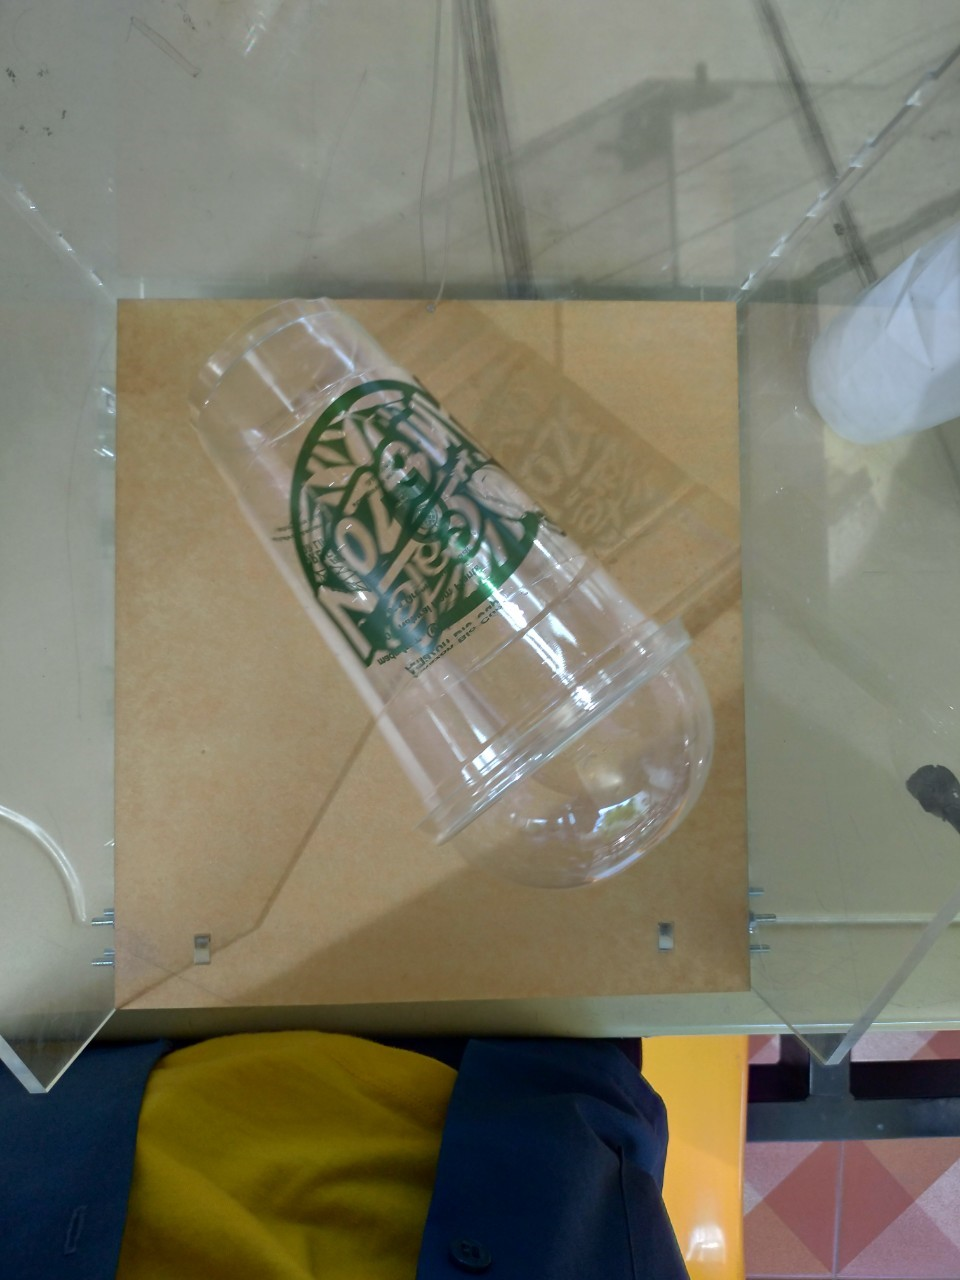PlasticCup: (190, 292, 716, 894)
